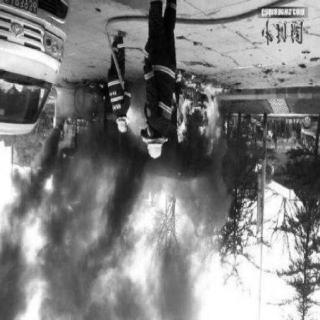Fire: (175, 82, 222, 159), (56, 119, 88, 161)
Smoke: (100, 146, 148, 252), (156, 247, 196, 319), (186, 170, 224, 232)
